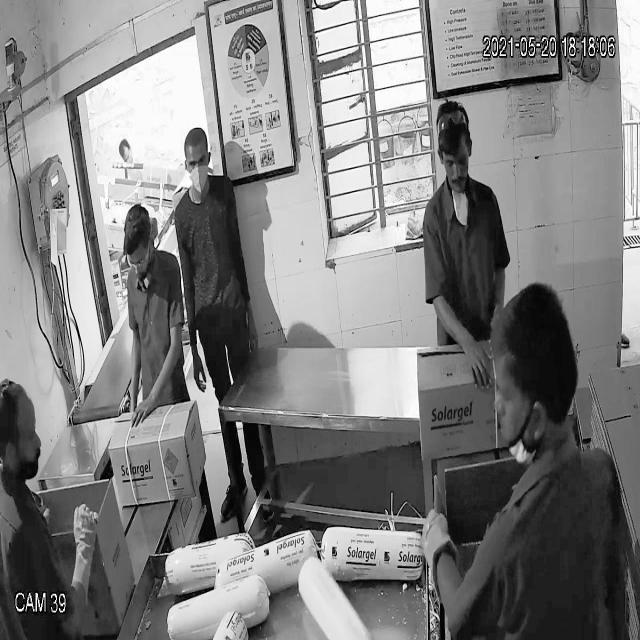glasses: (124, 244, 158, 270)
no-glass: (435, 147, 473, 173), (181, 150, 215, 174)
